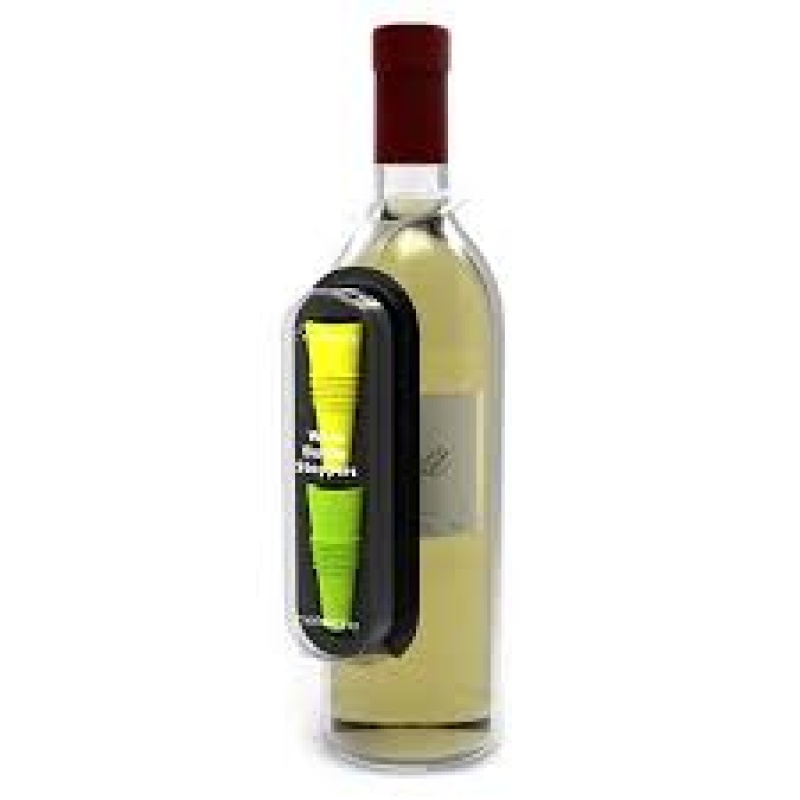wine: (309, 21, 498, 768)
